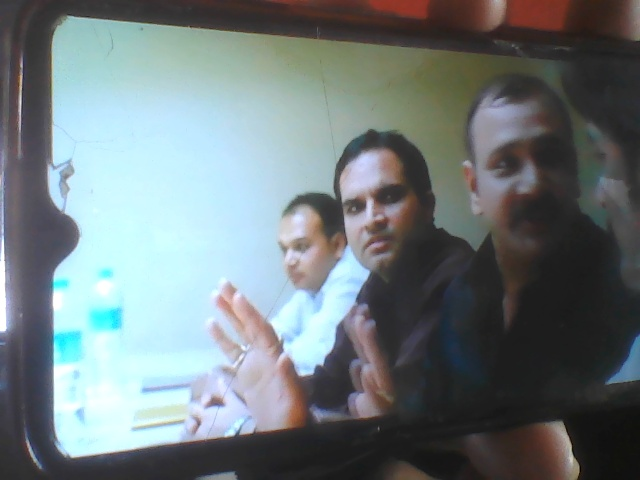fake: (327, 107, 449, 280)
